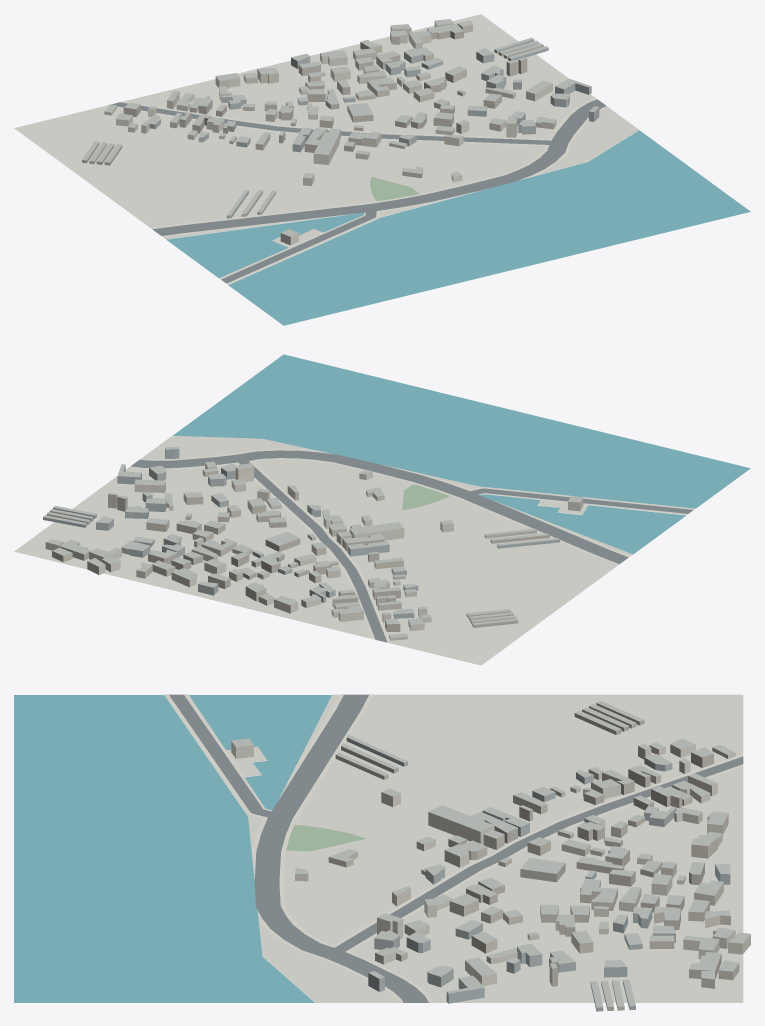
3 renders of one model, top to bottom at view 1: azimuth 30°, elevation 25°; view 2: azimuth 150°, elevation 25°; view 3: azimuth 270°, elevation 25°, orthographic. The views are drawn at different scales.
Parts seen in each view (by area): view 1: city; view 2: city; view 3: city.
Boxes of the visible parts, x1,y1,x2,y2 form: city: [14, 14, 750, 325]; city: [14, 354, 750, 665]; city: [14, 694, 750, 1011].
Size of the model in its own units: 514 by 14.48 by 505.
